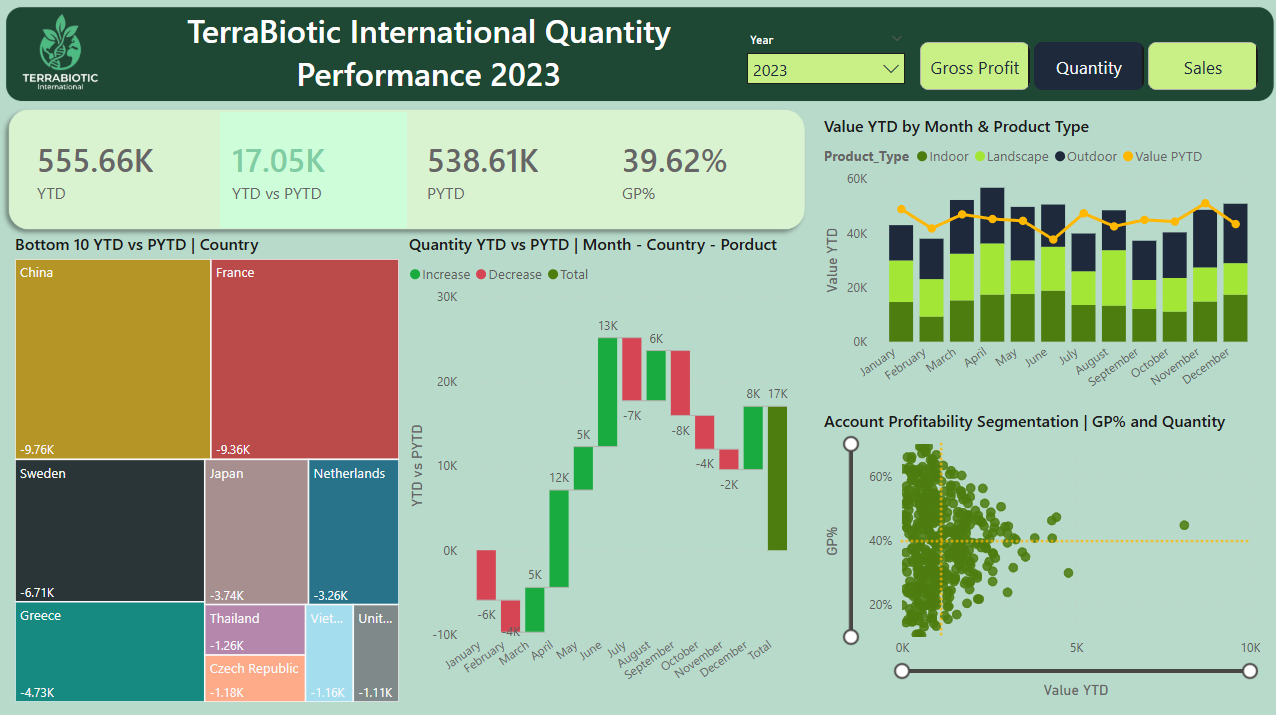

The dashboard page shown, as its layout file describes it:
{"tool":"powerbi","page":{"name":"Perfromance Report","canvas":[1280,720],"ordinal":0},"visuals":[{"type":"advancedSlicerVisual","fields":{"Values":["SLC_Values.Values"]},"box":[424.4,1.1,123.3,112.2],"z":0},{"type":"slicer","fields":{"Values":["Dim_Date.Date.Variation.Date Hierarchy.Year"]},"box":[301.1,25.6,123.3,64.4],"z":1000},{"type":"cardVisual","fields":{"Data":["_Measures.S_YTD","_Measures.YTD vs PYTD","_Measures.S_PYTD","_Measures.GP%"]},"box":[547.8,0,732.2,115.6],"z":2000},{"type":"treemap","title":"Bottom 10 YTD vs PYTD |  Country","fields":{"Group":["Dim_Account.country"],"Values":["_Measures.YTD vs PYTD"]},"box":[0,115.7,363.8,604],"z":3000},{"type":"waterfallChart","fields":{"Y":["_Measures.YTD vs PYTD"],"Category":["Dim_Date.Date.Variation.Date Hierarchy.Month","Dim_Account.country","Dim_Product.Produt_Type","Dim_Product.Product_Name"]},"box":[363.5,115.9,442.9,604.1],"z":4000},{"type":"lineStackedColumnComboChart","fields":{"Y":["_Measures.S_YTD"],"Y2":["_Measures.S_PYTD"],"Category":["Dim_Date.Date.Variation.Date Hierarchy.Quarter","Dim_Date.Date.Variation.Date Hierarchy.Month"],"Series":["Dim_Product.Produt_Type"]},"box":[806.3,115.7,473.7,301.5],"z":5000},{"type":"scatterChart","fields":{"Y":["_Measures.GP%"],"X":["_Measures.S_YTD"],"Category":["Dim_Account.Account"]},"box":[807,418,473,302],"z":6000},{"type":"textbox","box":[0,1.1,301.1,112.2],"z":7000}]}

Visuals, with their boxes in screenshot pixels (x1, y1, x2, y2), scaled from the page's 1280x720 canvas onto the 1276x715 screenshot:
advancedSlicerVisual - SLC_Values.Values: (left=423, top=1, right=546, bottom=113)
slicer - Dim_Date.Date.Variation.Date Hierarchy.Year: (left=300, top=25, right=423, bottom=89)
cardVisual - _Measures.S_YTD x _Measures.YTD vs PYTD: (left=546, top=0, right=1275, bottom=115)
"Bottom 10 YTD vs PYTD |  Country" treemap: (left=0, top=115, right=363, bottom=714)
waterfallChart - _Measures.YTD vs PYTD x Dim_Date.Date.Variation.Date Hierarchy.Month: (left=362, top=115, right=804, bottom=714)
lineStackedColumnComboChart - _Measures.S_YTD x _Measures.S_PYTD: (left=804, top=115, right=1275, bottom=414)
scatterChart - _Measures.GP% x _Measures.S_YTD: (left=804, top=415, right=1275, bottom=714)
textbox: (left=0, top=1, right=300, bottom=113)
